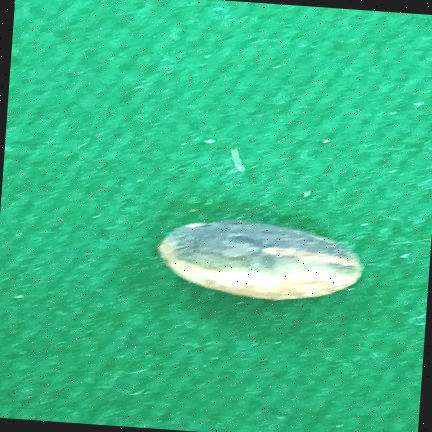partial-black: (158, 220, 362, 300), (262, 247, 299, 255)
